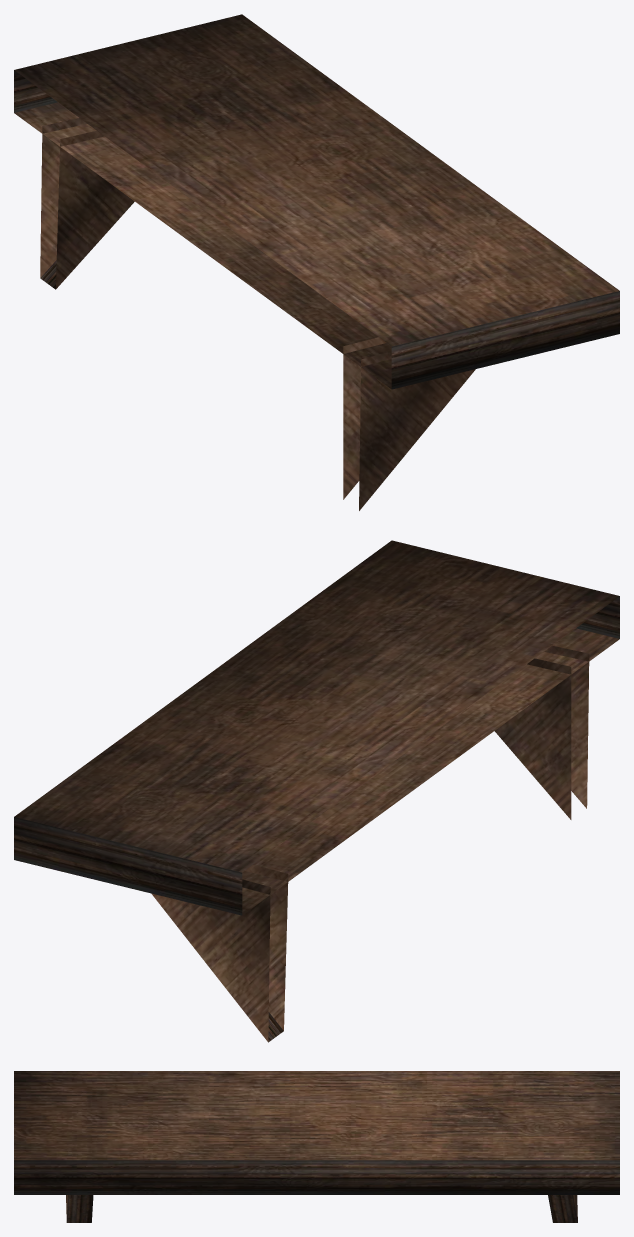
The model's file is GS_VOB_SHELF_ORANGE_01_KOZA.glb.
3 views of the same model, one above another, from view 1: azimuth 30°, elevation 25°; view 2: azimuth 150°, elevation 25°; view 3: azimuth 270°, elevation 25° (orthographic). The views are drawn at different scales.
Parts seen in each view (by area): view 1: Mesh; view 2: Mesh; view 3: Mesh.
Boxes of the visible parts, bbox=[...] form: Mesh: bbox=[14, 14, 619, 510]; Mesh: bbox=[14, 540, 619, 1042]; Mesh: bbox=[14, 1071, 619, 1222].
Bounding box in the file's own units: 0.6657 × 0.5274 × 1.91.
2 materials, 2 textured.
